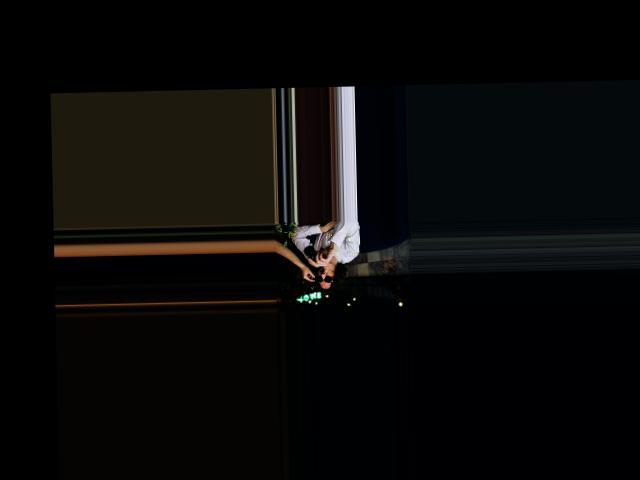beer: (302, 244, 323, 272)
